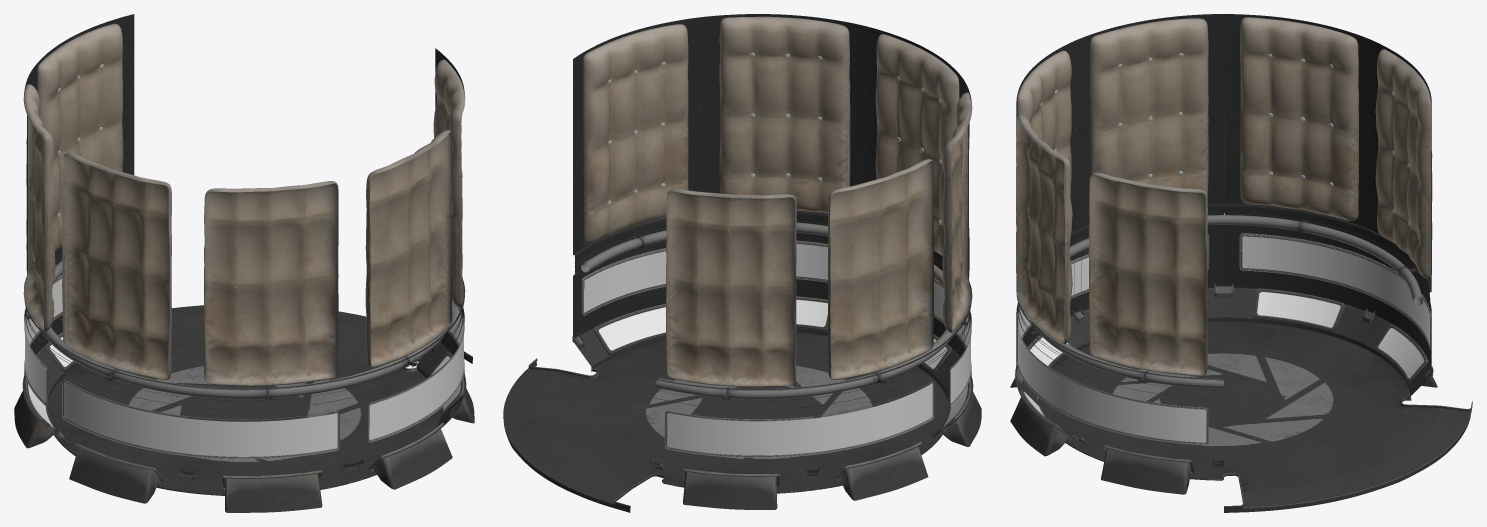
The model's file is SM_Fixture_Elevator_Interior_Textured.fbx.
The picture shows the model from 3 angles, left to right: view 1: azimuth 30°, elevation 25°; view 2: azimuth 150°, elevation 25°; view 3: azimuth 270°, elevation 25°; orthographic projection. The views are drawn at different scales.
Visible parts, largest first — view 1: SM_Fixture_Elevator_Interior; view 2: SM_Fixture_Elevator_Interior; view 3: SM_Fixture_Elevator_Interior.
Boxes of the visible parts, x1,y1,x2,y2 form: SM_Fixture_Elevator_Interior: (14, 14, 474, 512); SM_Fixture_Elevator_Interior: (503, 14, 981, 512); SM_Fixture_Elevator_Interior: (1010, 14, 1472, 512).
Size of the model in its own units: 181 by 132 by 181.
Materials: 3 (2 with a texture image).
